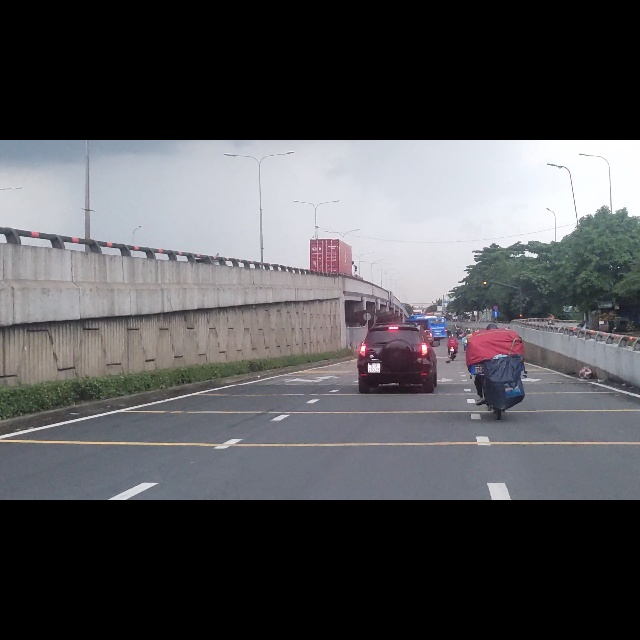bien_cam: (493, 303, 499, 315)
